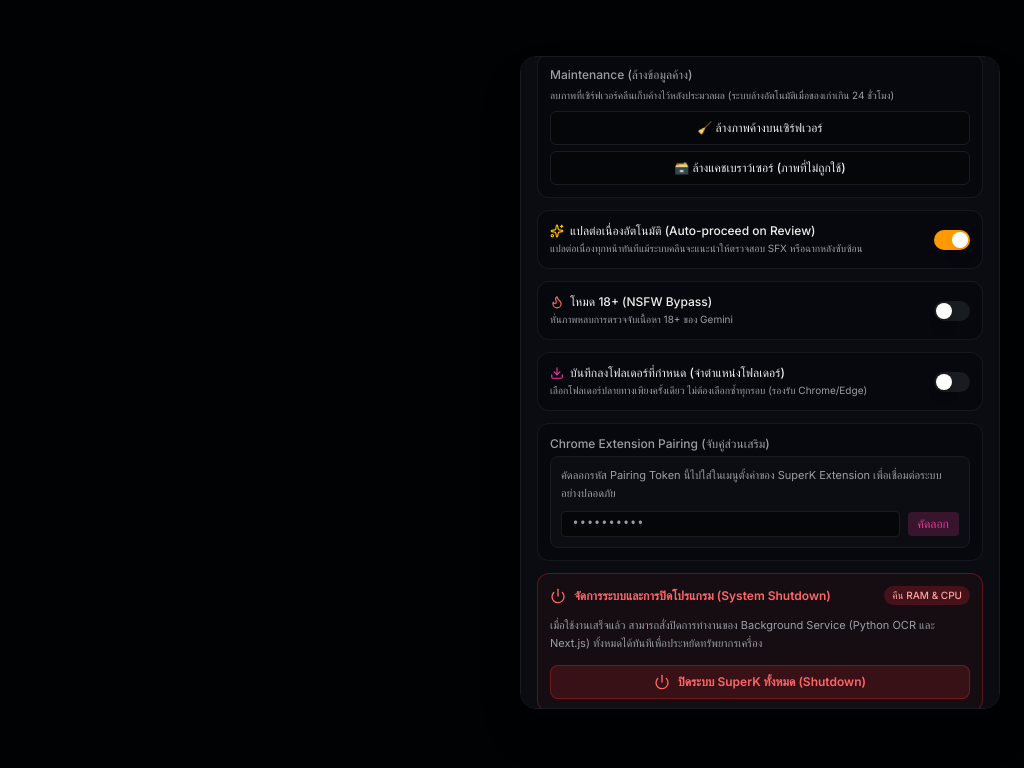
Test case: SettingsModal Export Directory Settings › toggles export setting and enables folder display
(page scrolled)
Click the switch named "เปิด/ปิดการบันทึกลงโฟลเดอร์ที่กำหนด": click(952, 382) x1=934 y1=372 x2=970 y2=392
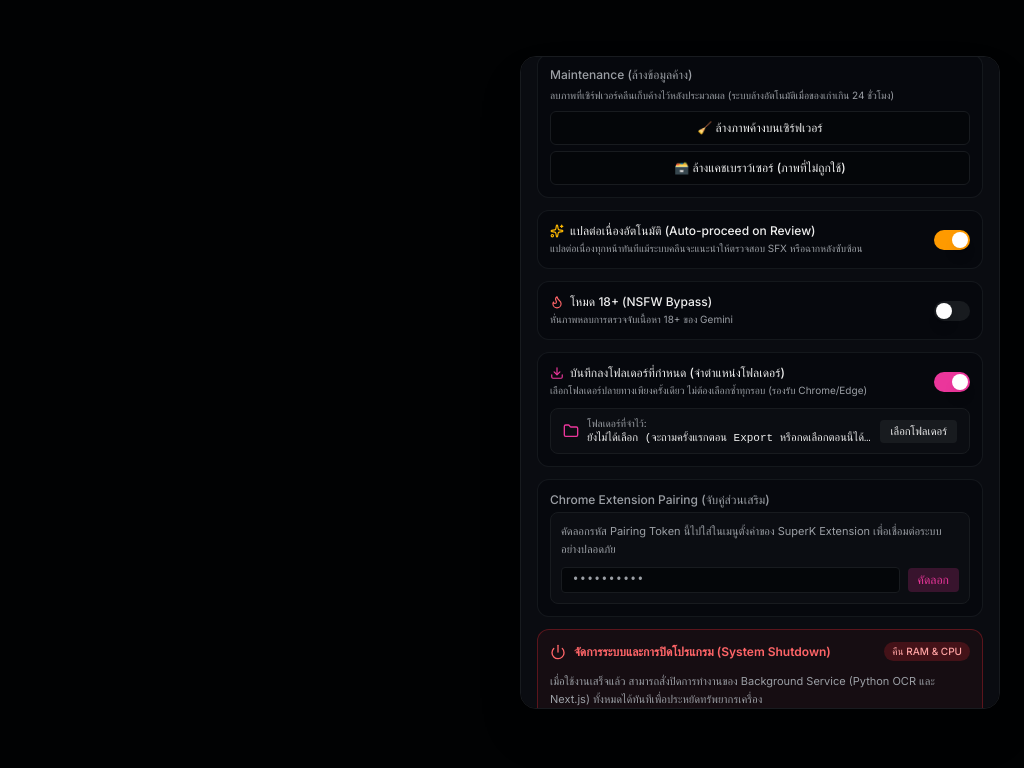
Expected: the text "โฟลเดอร์ที่จำไว้:" is shown, x1=587 y1=418 x2=647 y2=430
